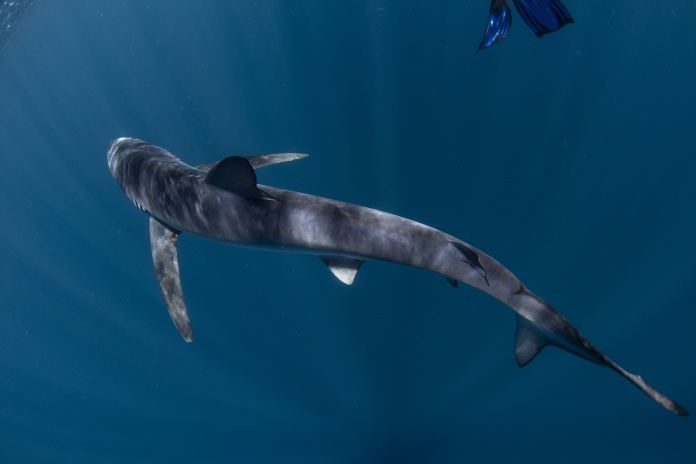Azul: (100, 128, 696, 431)
